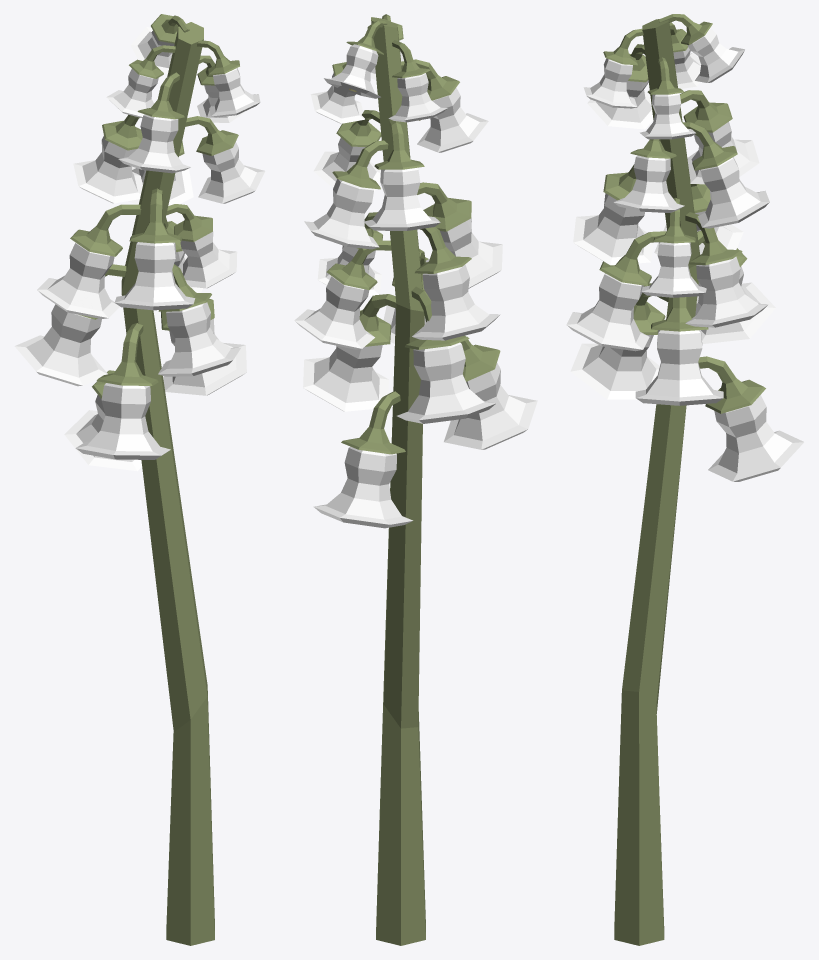
The model's file is Bell Flower Unharvested.fbx.
The picture shows the model from 3 angles, left to right: view 1: azimuth 30°, elevation 25°; view 2: azimuth 150°, elevation 25°; view 3: azimuth 270°, elevation 25°; orthographic projection. The views are drawn at different scales.
Parts seen in each view (by area): view 1: bell_flower; view 2: bell_flower; view 3: bell_flower.
Boxes of the visible parts, <box> form: bell_flower: <box>14,14,265,945</box>; bell_flower: <box>294,14,537,945</box>; bell_flower: <box>566,14,803,945</box>.
Bounding box in the file's own units: 0.1995 × 0.8642 × 0.2021.
